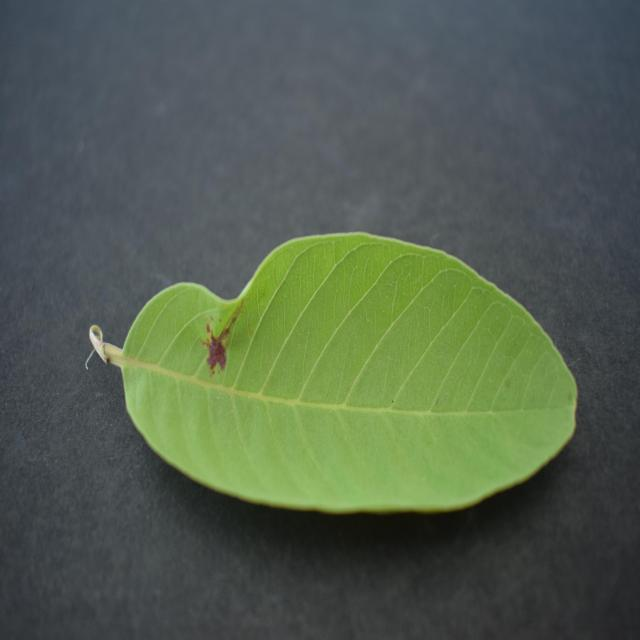Dot: (90, 234, 576, 512)
